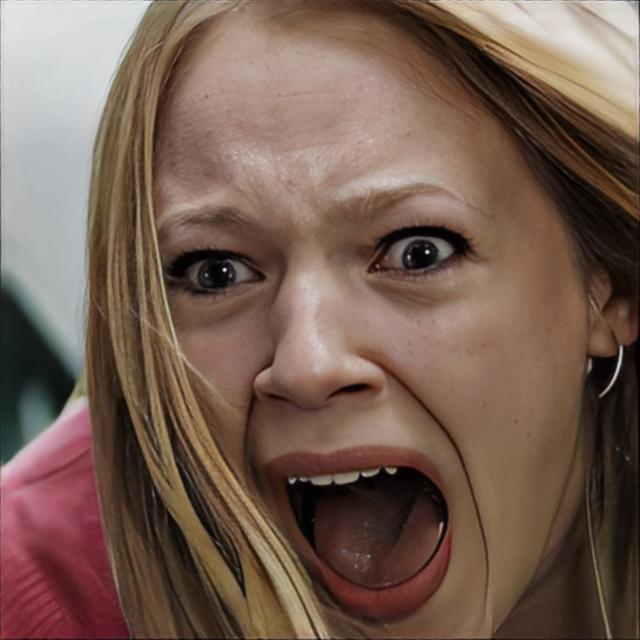Fear: (139, 0, 587, 640)
